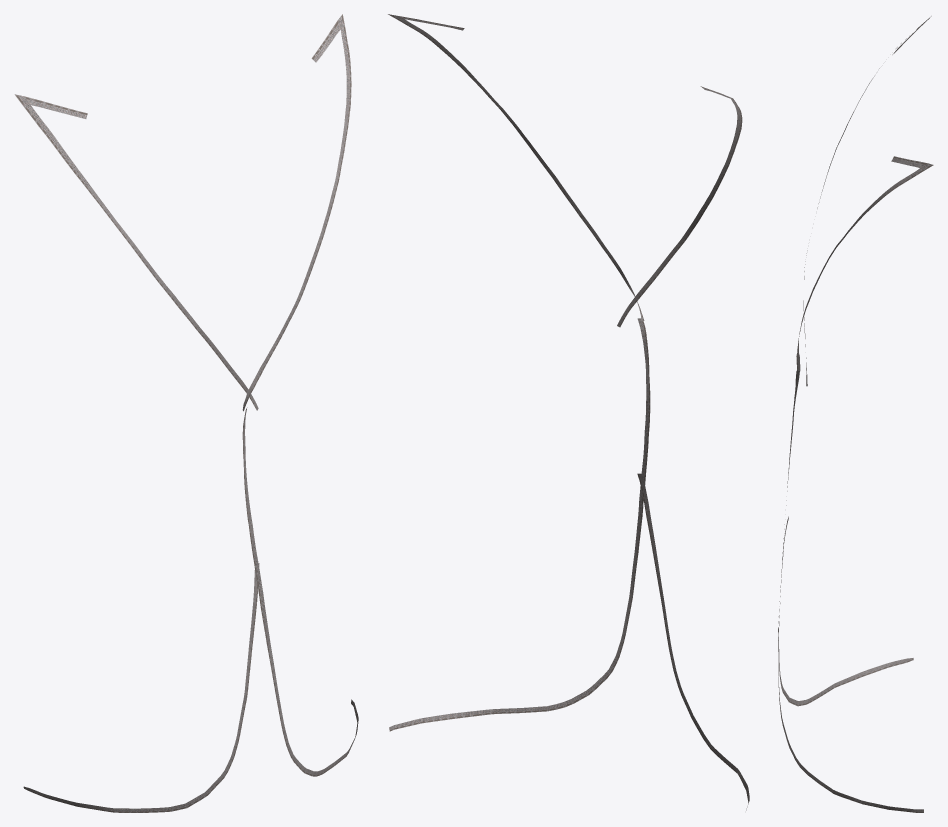
The model's file is peak_double_button_AMF 2mm.glb.
The picture shows the model from 3 angles, left to right: view 1: azimuth 30°, elevation 25°; view 2: azimuth 150°, elevation 25°; view 3: azimuth 270°, elevation 25°; orthographic projection. The views are drawn at different scales.
Parts seen in each view (by area): view 1: peak_double_button_AMF2; view 2: peak_double_button_AMF2; view 3: peak_double_button_AMF2.
Boxes of the visible parts, bbox=[...] form: peak_double_button_AMF2: bbox=[14, 14, 358, 812]; peak_double_button_AMF2: bbox=[388, 14, 749, 810]; peak_double_button_AMF2: bbox=[778, 16, 933, 812].
Size of the model in its own units: 0.0474 by 0.0939 by 0.0203.
1 material, 1 textured.
